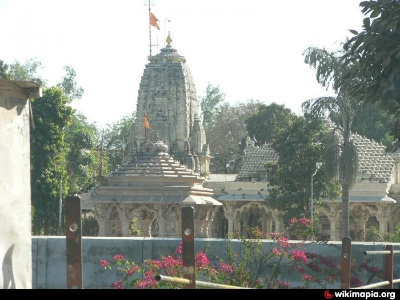gopuram: (128, 54, 216, 158)
